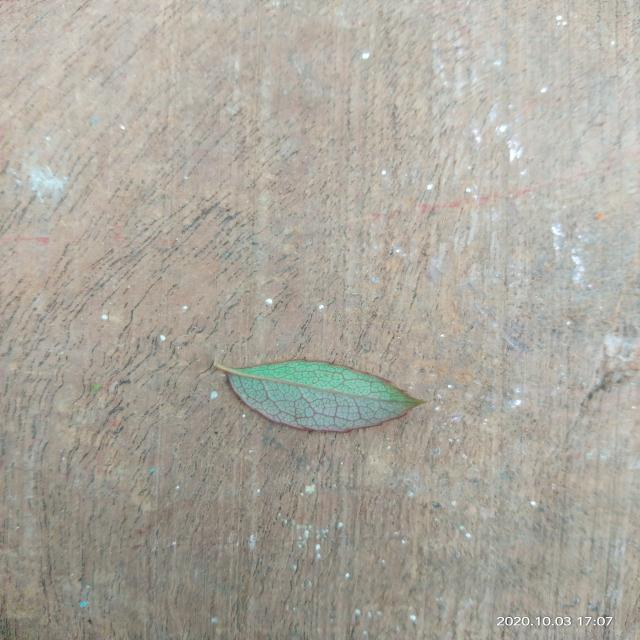tamarind: (215, 360, 423, 432)
